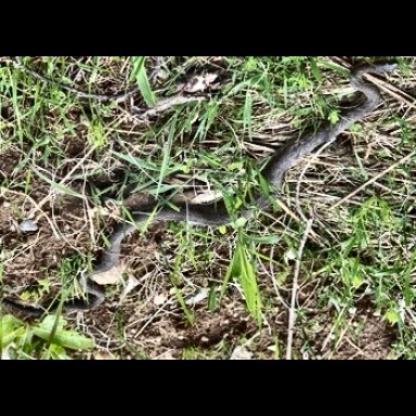Snake: (16, 65, 388, 319)
